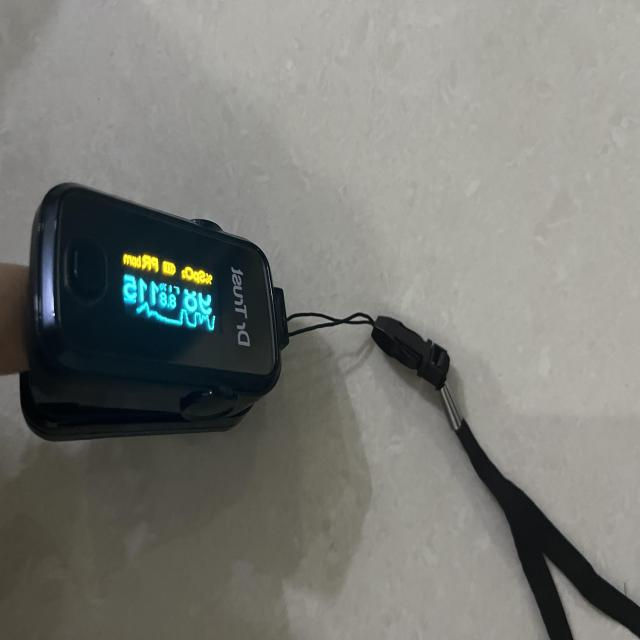spo2: (20, 184, 290, 444)
